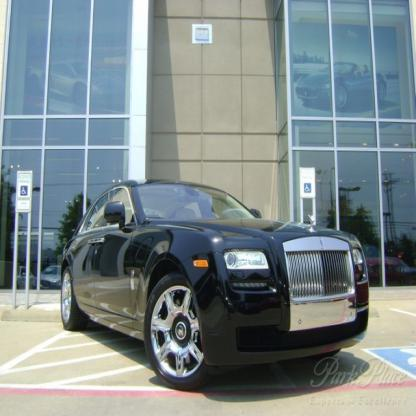Vehicle: (57, 180, 368, 387)
